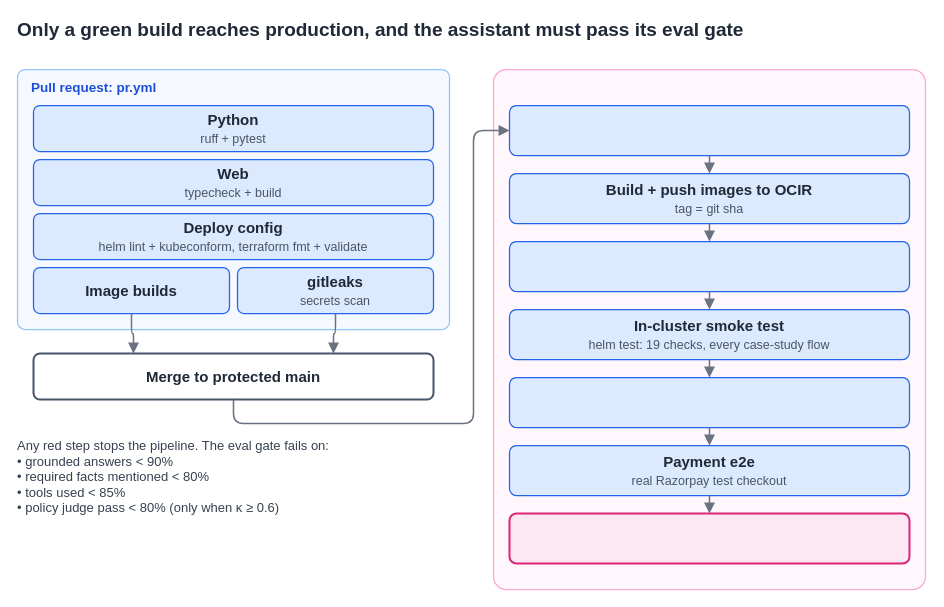
Image size: 944x607. Some labels were removed from this diagram. The shapes that lost their labels are listed below. From the top down, each one's box as (x1, y1, x2, y2) in pixels, then its label:
(508, 104, 910, 156): Tests again same suite as the PR
(508, 240, 910, 292): helm upgrade --wait OCI CI user with deploy-only permissions
(492, 68, 926, 590): Merge to main: deploy.yml
(508, 376, 910, 428): Playwright e2e on the live site desktop, tablet, mobile
(508, 512, 910, 564): Assistant eval gate judge calibration (κ ≥ 0.6) + 17 golden questions
